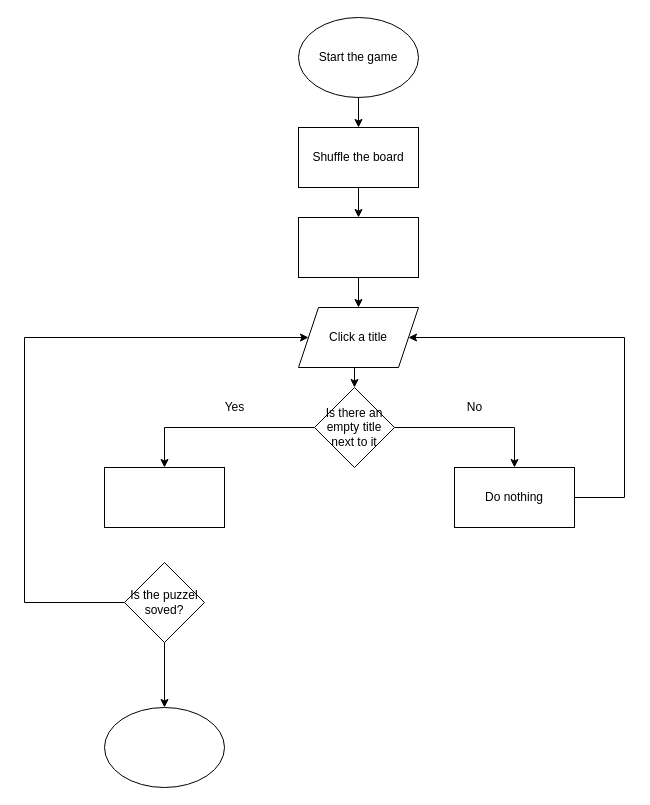
Some shapes in this 650 by 805 pixel diagram are drawn without their labels. The shapes that lost their labels are listed below. From the top down, each one's centre as x and y in pixels, then its label:
[358,247]: Remove a random title
[164,497]: Move the title to the neighbouring empty title
[164,747]: The game is finished
